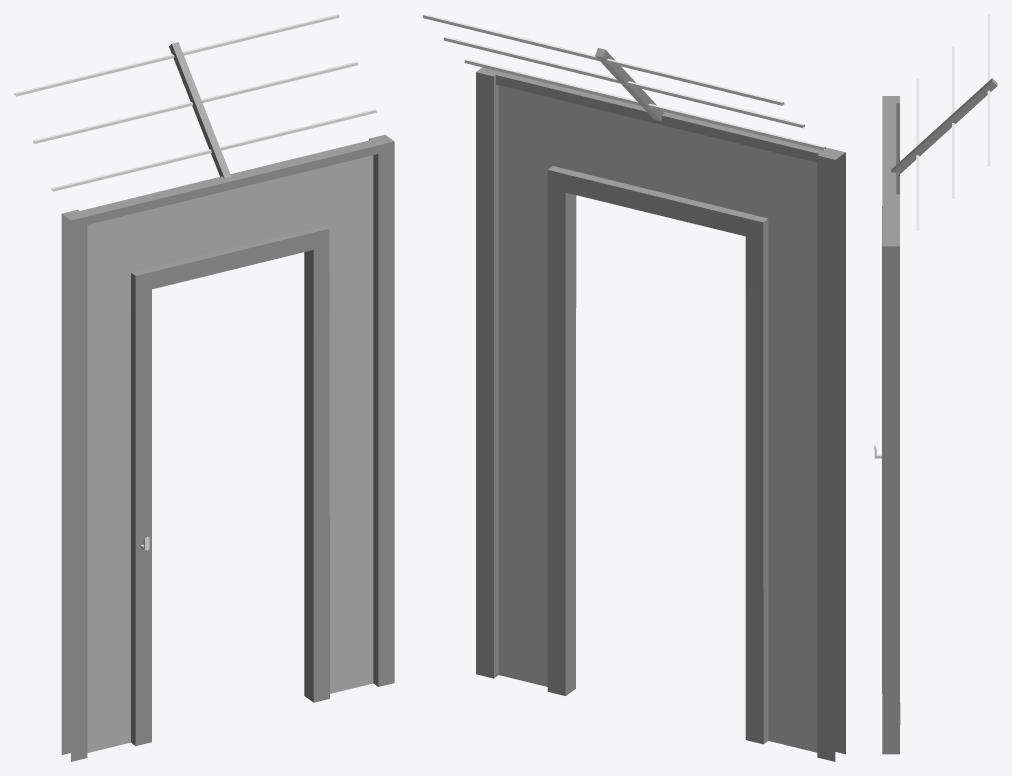
File: SM_Grid_Door_200.FBX
3 renders of one model, left to right at view 1: azimuth 30°, elevation 25°; view 2: azimuth 150°, elevation 25°; view 3: azimuth 270°, elevation 25°, orthographic. The views are drawn at different scales.
Parts seen in each view (by area): view 1: SM_Grid_Door_200; view 2: SM_Grid_Door_200; view 3: SM_Grid_Door_200.
Boxes of the visible parts, bbox=[...] form: SM_Grid_Door_200: bbox=[14, 14, 394, 761]; SM_Grid_Door_200: bbox=[423, 14, 845, 761]; SM_Grid_Door_200: bbox=[874, 14, 997, 754].
Bounding box in the file's own units: 200 × 69.17 × 377.
